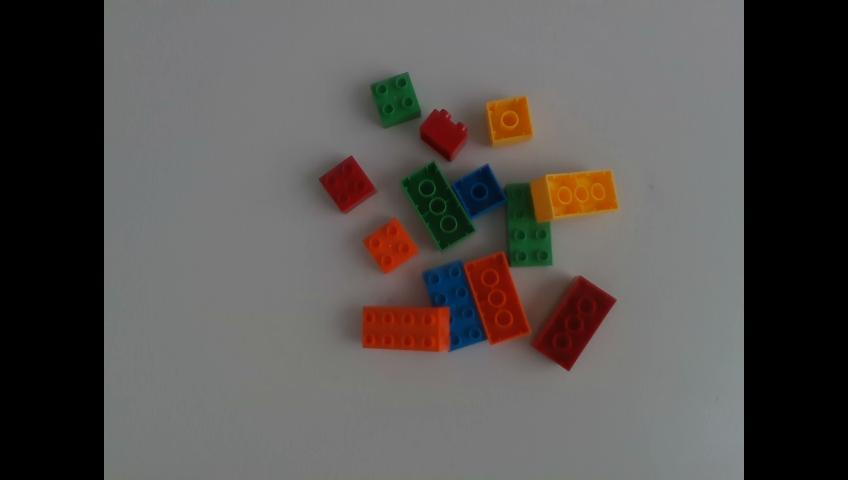2x2_blue: (451, 162, 506, 219)
2x2_green: (372, 72, 422, 125)
2x2_orange: (364, 219, 419, 273)
2x2_red: (320, 155, 376, 212), (420, 108, 466, 161)
2x2_yellow: (487, 96, 532, 144)
4x2_blue: (422, 258, 489, 354)
4x2_green: (400, 161, 475, 249), (504, 182, 552, 268)
4x2_orange: (464, 251, 530, 344), (364, 305, 450, 350)
4x2_red: (531, 275, 615, 369)
4x2_yellow: (531, 170, 619, 219)
